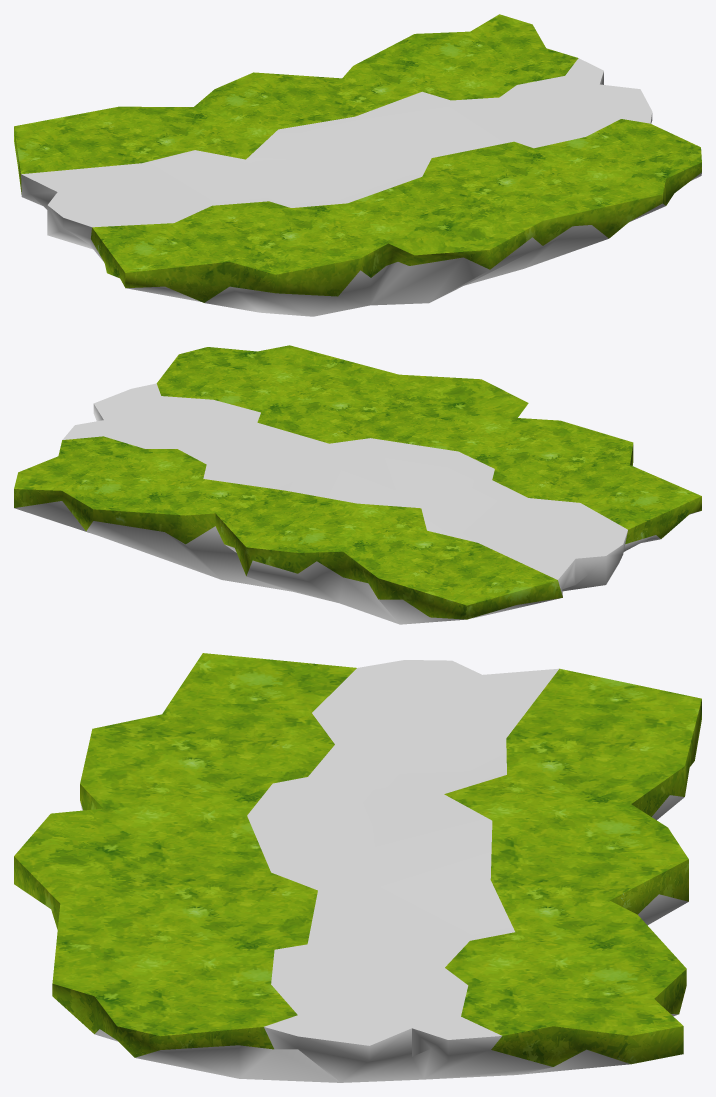
Rendered from platform1.fbx.
3 renders of one model, top to bottom at view 1: azimuth 30°, elevation 25°; view 2: azimuth 150°, elevation 25°; view 3: azimuth 270°, elevation 25°, orthographic. The views are drawn at different scales.
Parts seen in each view (by area): view 1: pPlane2; view 2: pPlane2; view 3: pPlane2.
Boxes of the visible parts, bbox=[...] form: pPlane2: bbox=[14, 14, 701, 316]; pPlane2: bbox=[14, 345, 701, 624]; pPlane2: bbox=[14, 653, 701, 1082].
Size of the model in its own units: 110 by 24.25 by 81.15.
